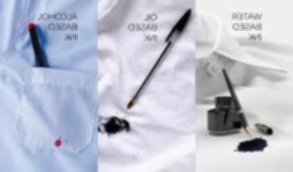ink: (236, 137, 268, 154), (101, 117, 129, 134), (56, 140, 62, 147)
